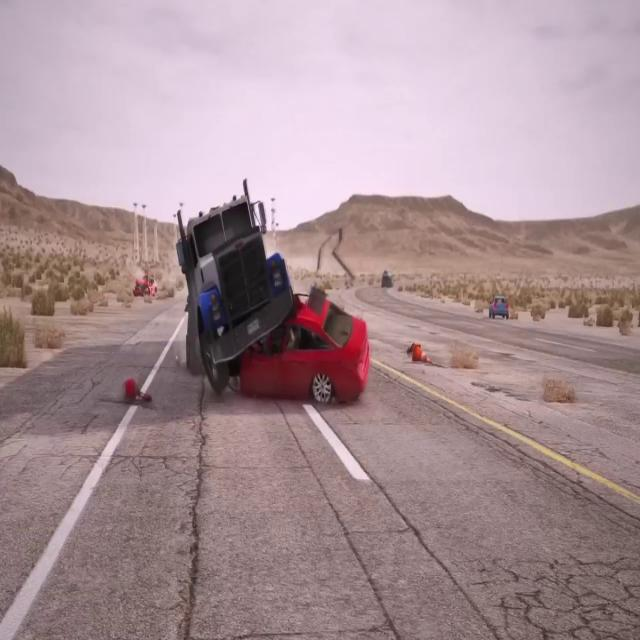accident: (174, 176, 372, 410)
